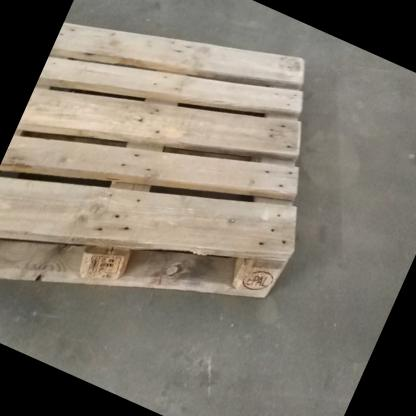BoxFace: (0, 19, 308, 301)
